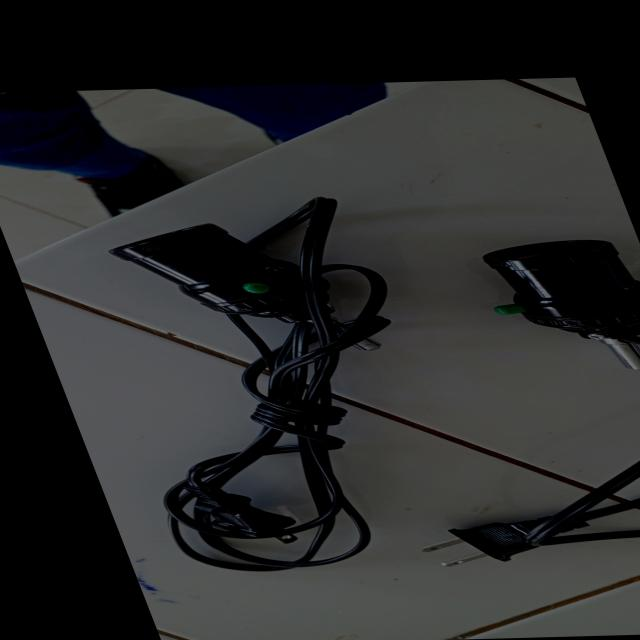Bulb Socket: (41, 193, 640, 582)
